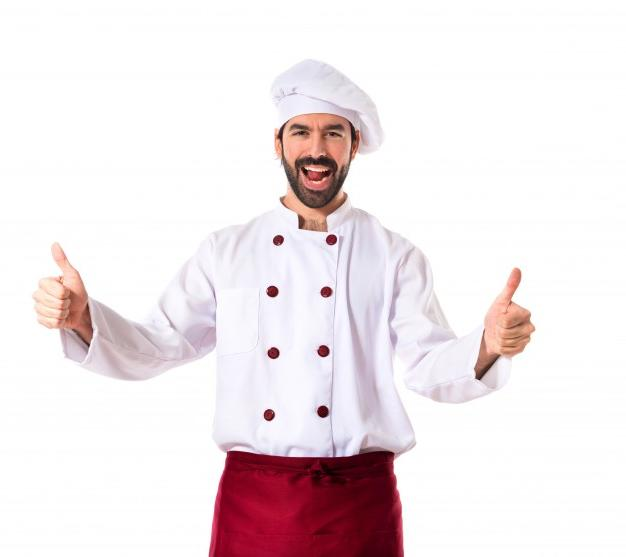thumbsup: (495, 268, 536, 356), (33, 242, 74, 329)
